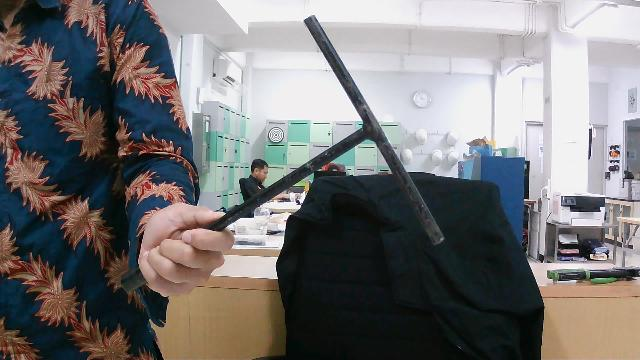kunci_t: (116, 8, 449, 306)
